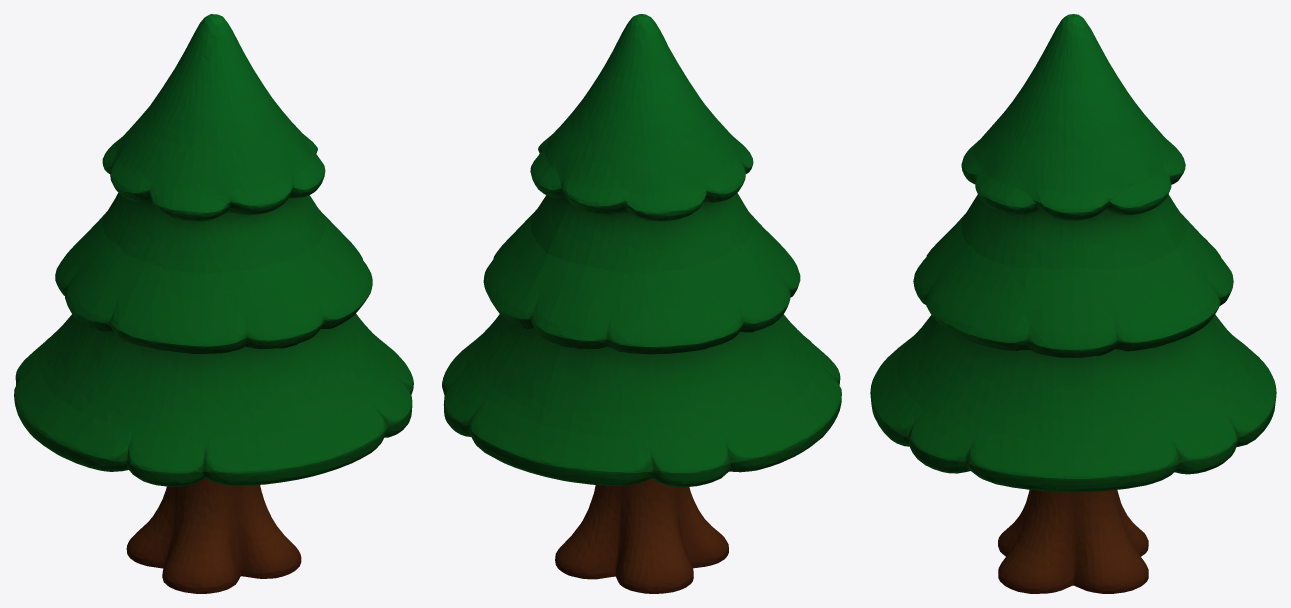
File: coniferousTree.glb
3 views of the same model, side by side, from view 1: azimuth 30°, elevation 25°; view 2: azimuth 150°, elevation 25°; view 3: azimuth 270°, elevation 25° (orthographic).
Parts seen in each view (by area): view 1: world; view 2: world; view 3: world.
Part boxes in pixels (box(x1,y1,x2,y2)): world: box(14, 14, 413, 593); world: box(442, 14, 841, 593); world: box(870, 14, 1276, 593).
Bounding box in the file's own units: 0.6733 × 1 × 0.6733.
Materials: 1 (1 with a texture image).
